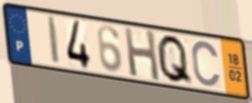4: (65, 18, 93, 72)
6: (95, 24, 125, 76)
C: (190, 39, 223, 89)
H: (122, 25, 162, 84)
I: (46, 15, 62, 68)
Q: (155, 34, 195, 88)
